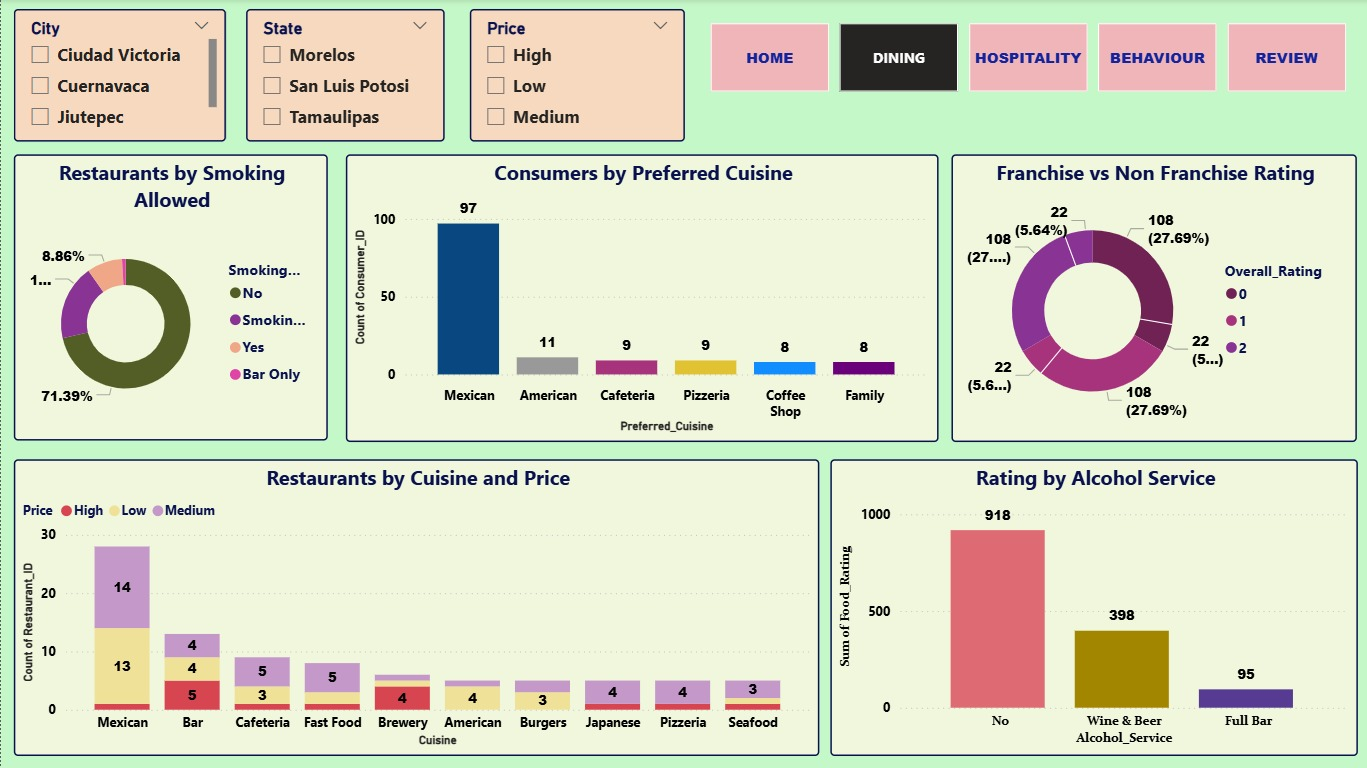

This screenshot's page, from the dashboard's own definition file:
{"tool":"powerbi","page":{"name":"DINING","canvas":[1280,720],"ordinal":1},"visuals":[{"type":"columnChart","title":"Rating by Alcohol Service","fields":{"Category":["cleaned_restaurants_data.Alcohol_Service"],"Y":["Sum(ratings.Food_Rating)"]},"box":[776.6,431,494.2,278],"z":0},{"type":"donutChart","title":"Franchise vs Non Franchise Rating","fields":{"Category":["ratings.Overall_Rating"],"Y":["CountNonNull(cleaned_restaurants_data.Restaurant_ID)"],"Series":["cleaned_restaurants_data.Franchise"]},"box":[889.9,145.6,379.5,269.2],"z":1000},{"type":"donutChart","title":"Restaurants by Smoking Allowed","fields":{"Category":["cleaned_restaurants_data.Smoking_Allowed"],"Y":["_cleaned_consumer_preferences_data.Total Restaurant"]},"box":[12,146,293.7,267.9],"z":2000},{"type":"columnChart","title":" Restaurants by Cuisine and Price","fields":{"Category":["restaurant_cuisines.Cuisine"],"Y":["CountNonNull(restaurant_cuisines.Restaurant_ID)"],"Series":["cleaned_restaurants_data.Price"]},"box":[11.8,431,754.5,278],"z":3000},{"type":"clusteredColumnChart","title":"Consumers by Preferred Cuisine","fields":{"Category":["_cleaned_consumer_preferences_data.Preferred_Cuisine"],"Y":["CountNonNull(_cleaned_consumer_preferences_data.Consumer_ID)"]},"box":[322.9,146,554.8,269.7],"z":4000},{"type":"pageNavigator","box":[664.3,23.1,596.4,65],"z":5000},{"type":"slicer","fields":{"Values":["cleaned_restaurants_data.City"]},"box":[11.4,10,198.6,124.3],"z":6000},{"type":"slicer","fields":{"Values":["cleaned_consumers_data.State"]},"box":[230,10,185.7,124.3],"z":7000},{"type":"slicer","fields":{"Values":["cleaned_restaurants_data.Price"]},"box":[438.6,10,201.4,124.3],"z":8000}]}

Visuals, with their boxes in screenshot pixels (x1, y1, x2, y2), scaled from the page's 1280x720 canvas onto the 1367x768 screenshot:
"Rating by Alcohol Service" columnChart: x1=829, y1=460, x2=1357, y2=756
"Franchise vs Non Franchise Rating" donutChart: x1=950, y1=155, x2=1356, y2=442
"Restaurants by Smoking Allowed" donutChart: x1=13, y1=156, x2=326, y2=441
" Restaurants by Cuisine and Price" columnChart: x1=13, y1=460, x2=818, y2=756
"Consumers by Preferred Cuisine" clusteredColumnChart: x1=345, y1=156, x2=937, y2=443
pageNavigator: x1=709, y1=25, x2=1346, y2=94
slicer - cleaned_restaurants_data.City: x1=12, y1=11, x2=224, y2=143
slicer - cleaned_consumers_data.State: x1=246, y1=11, x2=444, y2=143
slicer - cleaned_restaurants_data.Price: x1=468, y1=11, x2=684, y2=143
